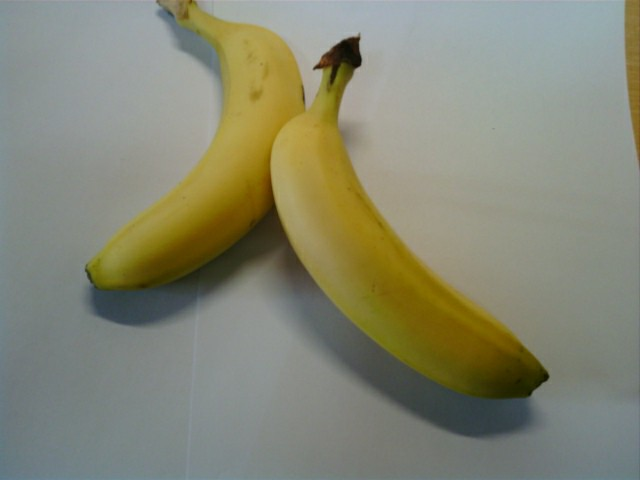fresh_banana: (273, 108, 544, 401), (80, 19, 307, 288)
